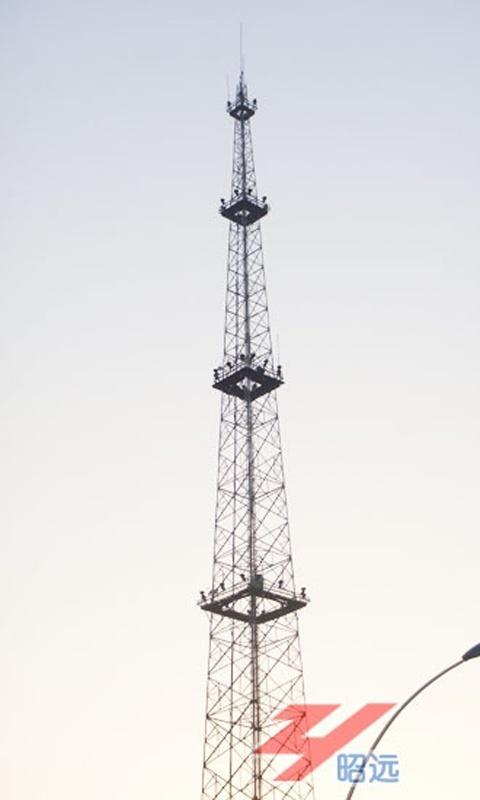power_tower: (173, 61, 355, 735)
